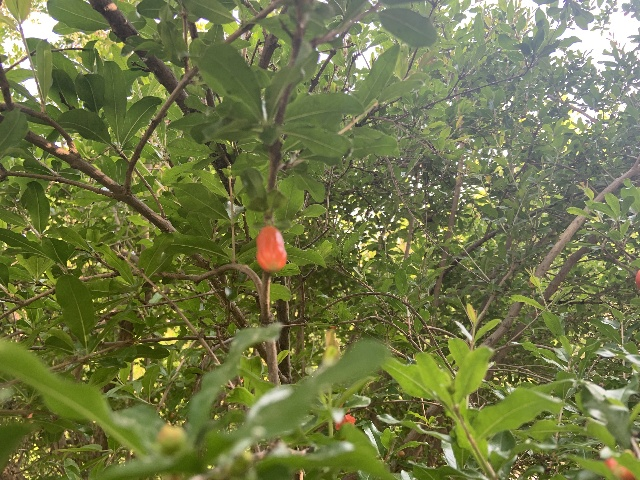bud: (255, 225, 287, 273)
flower: (335, 409, 356, 430)
